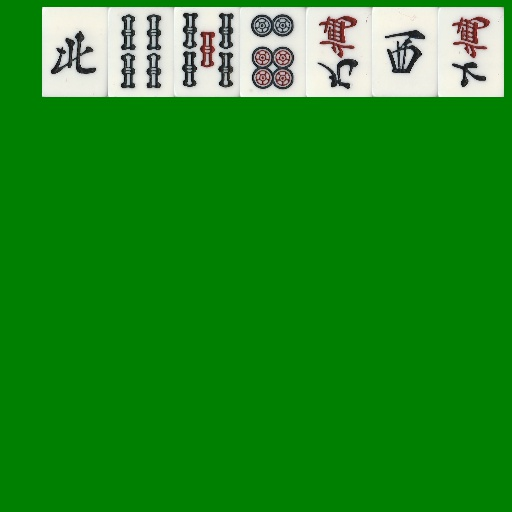4s: (108, 7, 174, 97)
5s: (174, 7, 240, 97)
6p: (240, 7, 306, 97)
7m: (438, 7, 504, 97)
9m: (306, 7, 372, 97)
north: (42, 7, 108, 97)
west: (372, 7, 438, 97)
